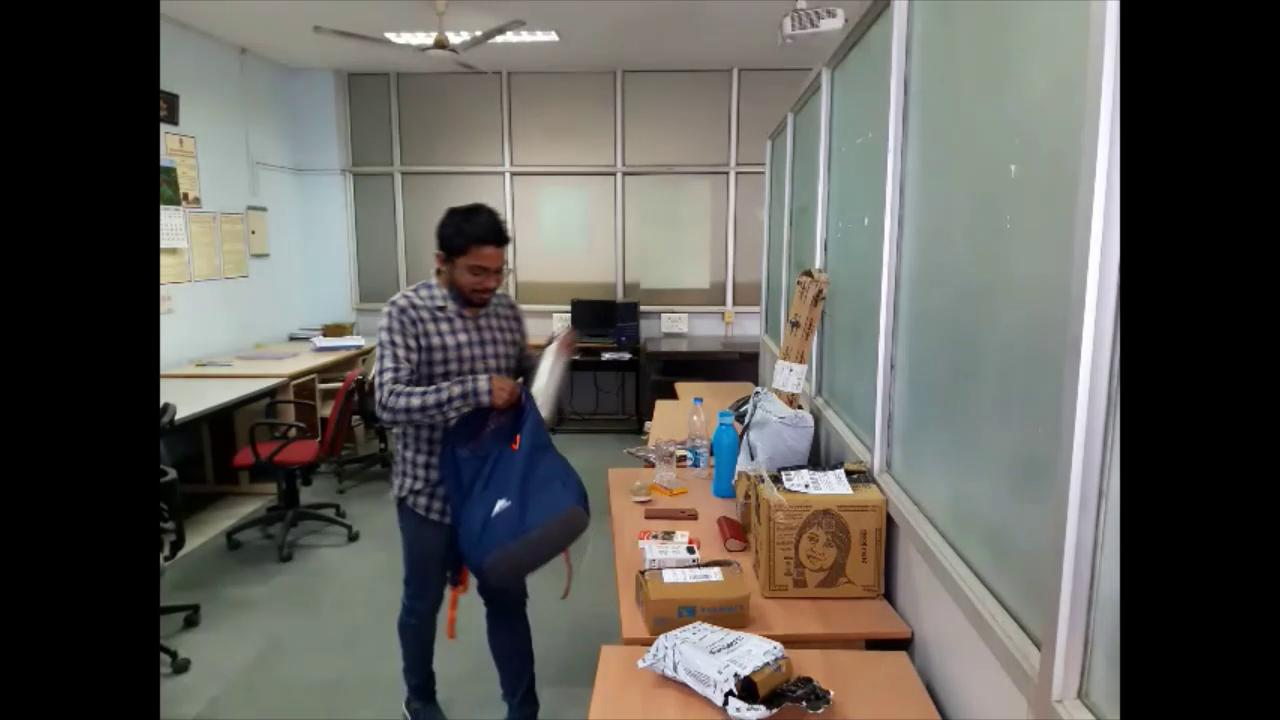shoplifting: (359, 198, 602, 717)
